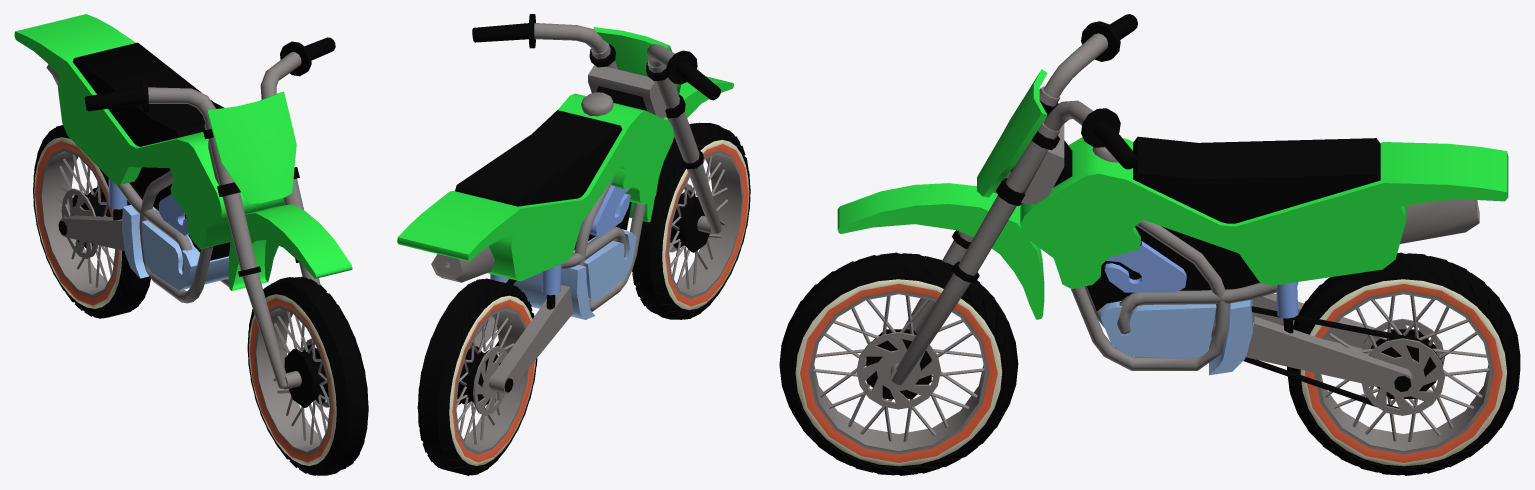
The model's file is bike 1 .fbx.
3 views of the same model, side by side, from view 1: azimuth 30°, elevation 25°; view 2: azimuth 150°, elevation 25°; view 3: azimuth 270°, elevation 25° (orthographic). The views are drawn at different scales.
Parts seen in each view (by area): view 1: body.007, tyre, tyre.005; view 2: body.007, tyre.005, tyre; view 3: body.007, tyre, tyre.005.
Boxes of the visible parts, x1=… form: body.007: x1=14, y1=14, x2=352, y2=388; tyre: x1=247, y1=277, x2=368, y2=475; tyre.005: x1=33, y1=125, x2=150, y2=318; body.007: x1=397, y1=14, x2=733, y2=404; tyre.005: x1=417, y1=278, x2=537, y2=475; tyre: x1=632, y1=122, x2=750, y2=319; body.007: x1=837, y1=14, x2=1508, y2=408; tyre: x1=779, y1=252, x2=1018, y2=475; tyre.005: x1=1287, y1=252, x2=1520, y2=475.
Size of the model in its own units: 1.04 by 1.37 by 2.27.
